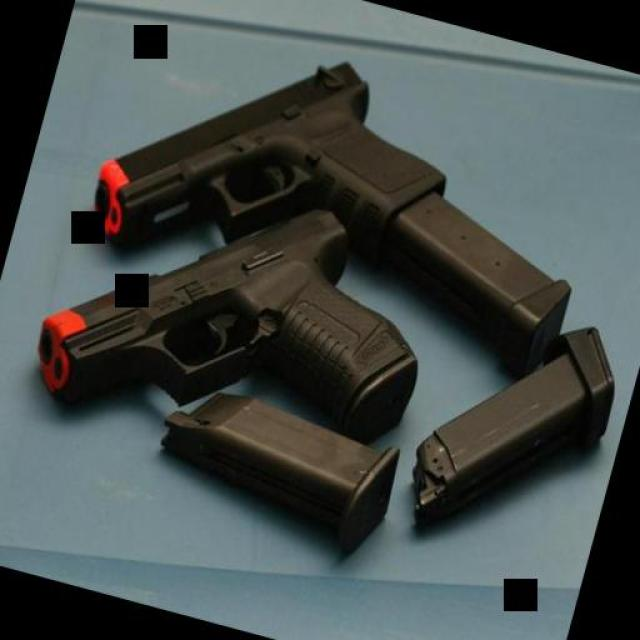gun: (70, 4, 620, 388), (11, 142, 454, 522)
